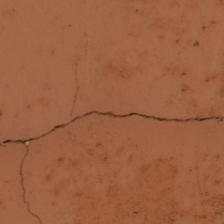Crack: (49, 0, 177, 119), (199, 0, 224, 72)
